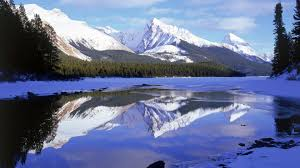lake: (7, 70, 290, 168)
mountain: (12, 8, 259, 69)
